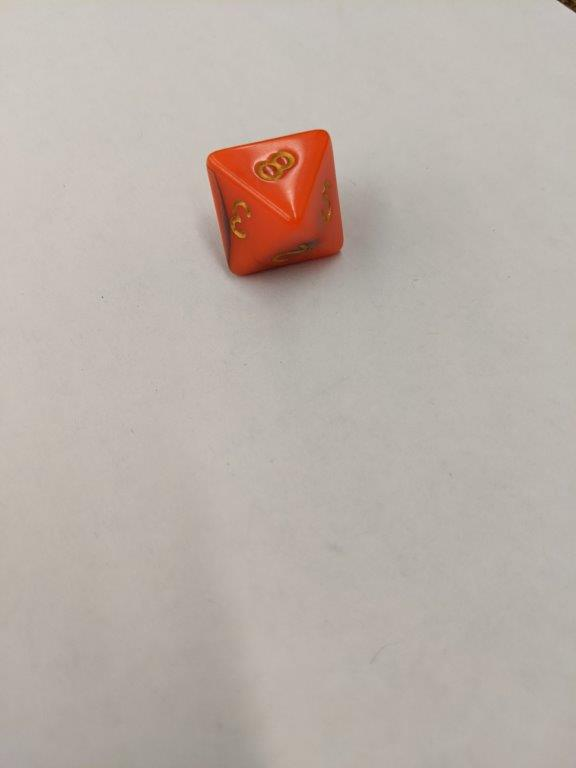d8-8: (206, 126, 347, 278)
